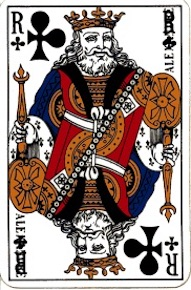KingOfClubs: (4, 4, 186, 283)
